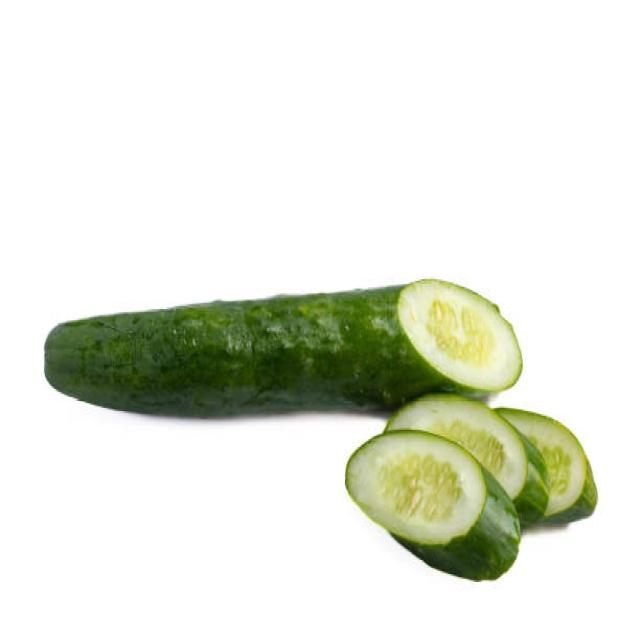cucumber: (45, 278, 523, 414)
